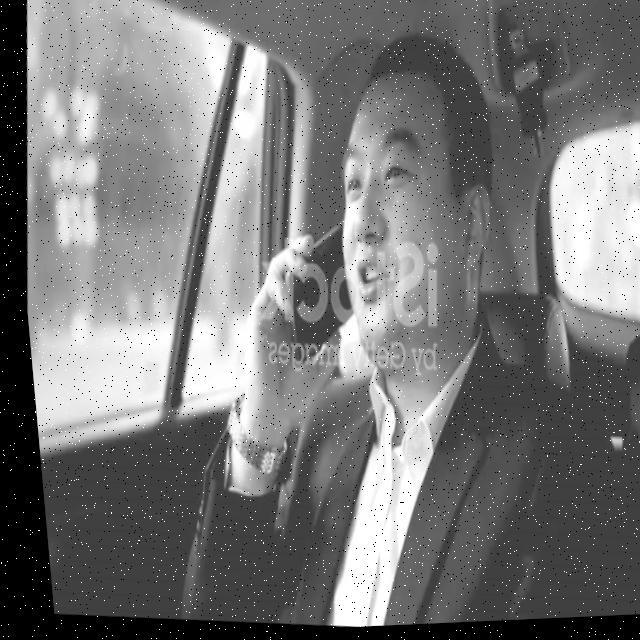PhoneCall: (268, 220, 356, 376)
